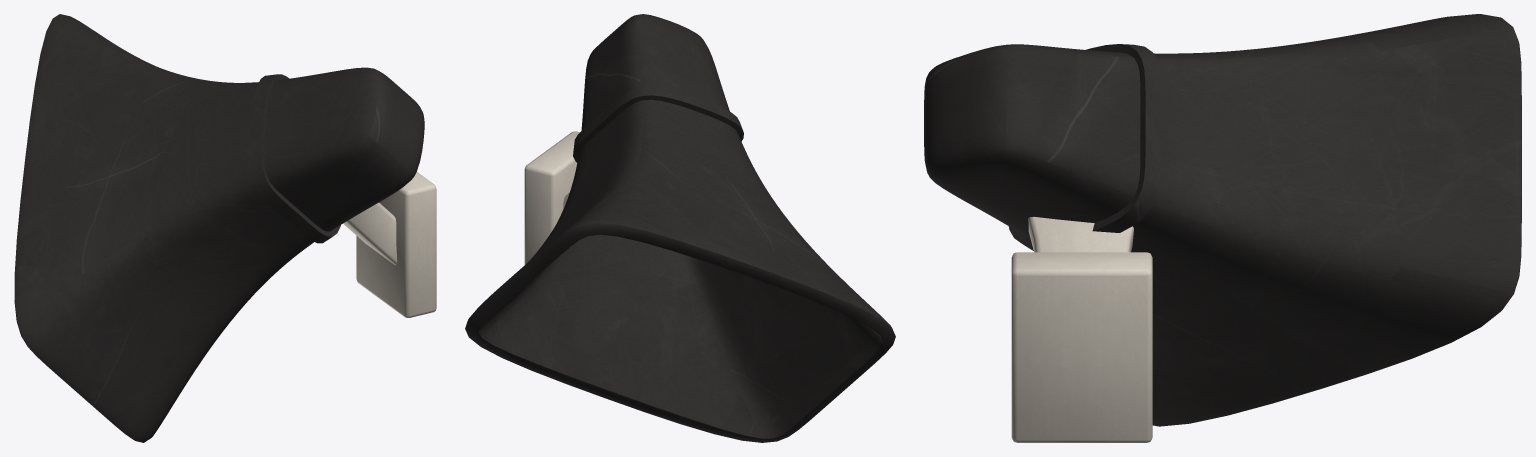
The model's file is Speaker Right.fbx.
3 views of the same model, side by side, from view 1: azimuth 30°, elevation 25°; view 2: azimuth 150°, elevation 25°; view 3: azimuth 270°, elevation 25° (orthographic). The views are drawn at different scales.
Visible parts, largest first — view 1: SpeakerOuter, Speaker Mount, Connector; view 2: SpeakerOuter, Speaker Mount; view 3: SpeakerOuter, Speaker Mount, Connector.
Boxes of the visible parts, box(x1,y1,x2,y2) form: SpeakerOuter: box(14, 14, 424, 442); Speaker Mount: box(356, 172, 436, 317); Connector: box(343, 202, 397, 265); SpeakerOuter: box(465, 14, 895, 442); Speaker Mount: box(524, 131, 579, 264); SpeakerOuter: box(924, 14, 1521, 426); Speaker Mount: box(1011, 252, 1152, 442); Connector: box(1028, 216, 1133, 252).
Bounding box in the file's own units: 3.02 × 3.07 × 2.78.
